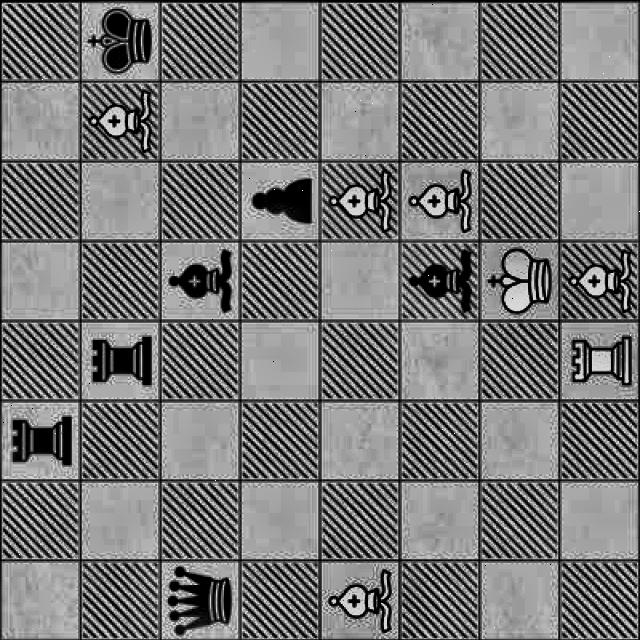black bishop: (161, 240, 237, 318), (403, 243, 475, 319)
black king: (79, 2, 158, 78)
black pawn: (242, 168, 318, 232)
black queen: (160, 562, 242, 636)
black rook: (84, 320, 160, 398), (3, 402, 77, 482)
white bishop: (82, 84, 160, 158), (401, 162, 477, 237), (331, 161, 398, 239), (563, 245, 640, 312), (322, 564, 394, 632)
white king: (476, 244, 552, 310)
white rook: (561, 329, 640, 386)
